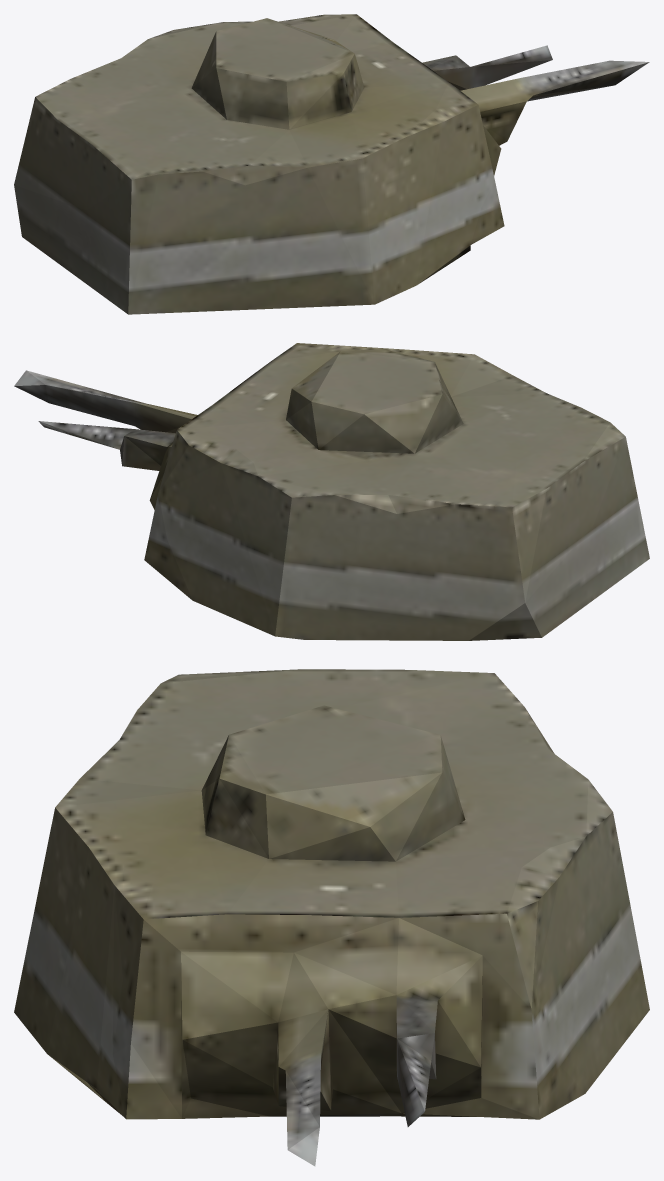
Rendered from turret.obj.
The picture shows the model from 3 angles, top to bottom: view 1: azimuth 30°, elevation 25°; view 2: azimuth 150°, elevation 25°; view 3: azimuth 270°, elevation 25°; orthographic projection. The views are drawn at different scales.
Size of the model in its own units: 0.5144 by 0.155 by 0.3279.
Materials: 1 (1 with a texture image).
